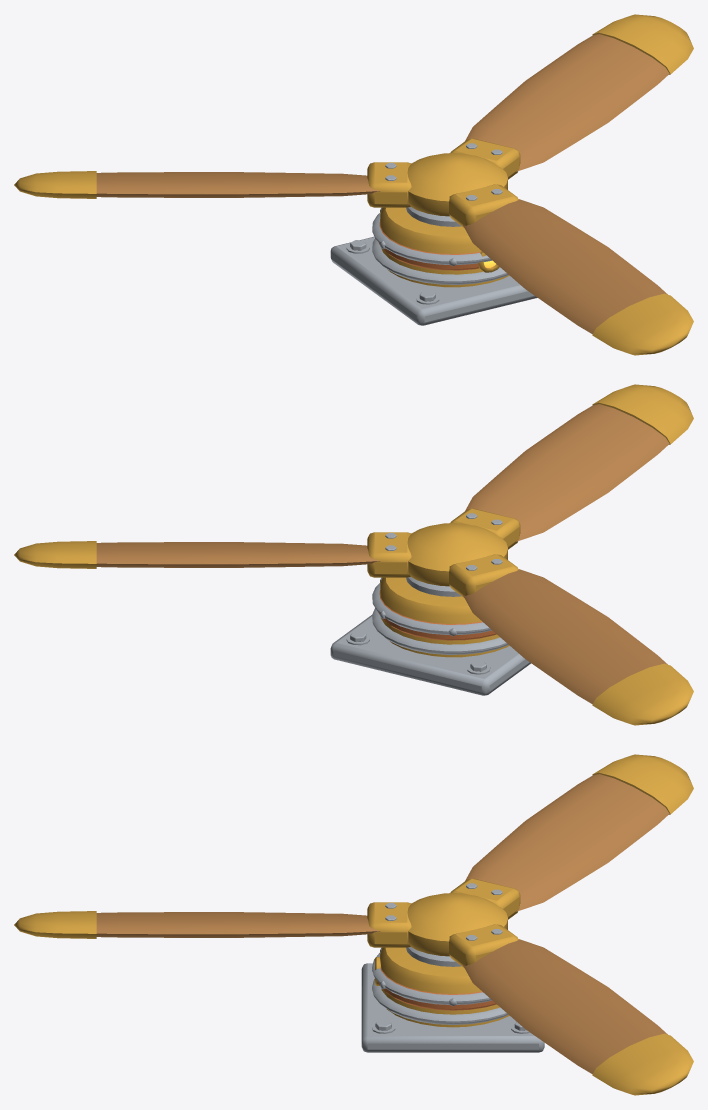
File: part_rotor.glb
The picture shows the model from 3 angles, top to bottom: view 1: azimuth 30°, elevation 25°; view 2: azimuth 150°, elevation 25°; view 3: azimuth 270°, elevation 25°; orthographic projection.
Parts seen in each view (by area): view 1: Blades, Hub; view 2: Blades, Hub; view 3: Blades, Hub.
Part boxes in pixels (<box>): Blades: <box>14,14,693,355</box>; Hub: <box>330,207,537,325</box>; Blades: <box>14,384,693,725</box>; Hub: <box>330,577,530,695</box>; Blades: <box>14,754,693,1095</box>; Hub: <box>361,947,544,1052</box>.
Size of the model in its own units: 2.11 by 0.35 by 1.86.
